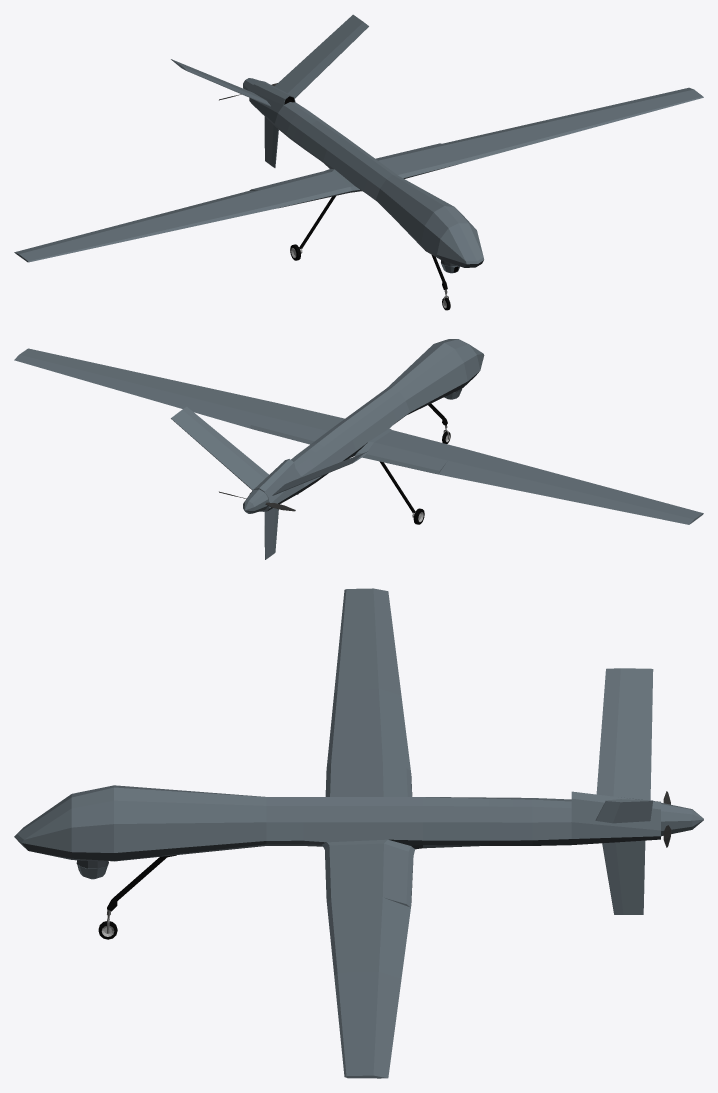
3 renders of one model, top to bottom at view 1: azimuth 30°, elevation 25°; view 2: azimuth 150°, elevation 25°; view 3: azimuth 270°, elevation 25°, orthographic. The views are drawn at different scales.
Visible parts, largest first — view 1: Circle.016, Circle.018, Circle.022; view 2: Circle.016, Circle.019, Circle.023, Circle.018, Circle.022, Circle.017, Landing gear_RL.005; view 3: Circle.016, Circle.022, Circle.023, Circle.018, Circle.019, Circle.017, Landing gear_F.002.
Part boxes in pixels (x1=…): Circle.016: x1=17, y1=14, x2=703, y2=273; Circle.018: x1=14, y1=216, x2=157, y2=254; Circle.022: x1=544, y1=87, x2=693, y2=121; Circle.016: x1=19, y1=339, x2=703, y2=559; Circle.019: x1=438, y1=460, x2=550, y2=495; Circle.023: x1=151, y1=389, x2=258, y2=428; Circle.018: x1=543, y1=485, x2=693, y2=524; Circle.022: x1=14, y1=355, x2=158, y2=399; Circle.017: x1=219, y1=489, x2=295, y2=513; Landing gear_RL.005: x1=379, y1=461, x2=424, y2=524; Circle.016: x1=14, y1=588, x2=660, y2=1078; Circle.022: x1=373, y1=972, x2=401, y2=1078; Circle.023: x1=379, y1=897, x2=410, y2=978; Circle.018: x1=373, y1=588, x2=401, y2=695; Circle.019: x1=379, y1=689, x2=410, y2=770; Circle.017: x1=661, y1=791, x2=703, y2=847; Landing gear_F.002: x1=98, y1=855, x2=176, y2=939.
Size of the model in its own units: 1428 by 281 by 855.
